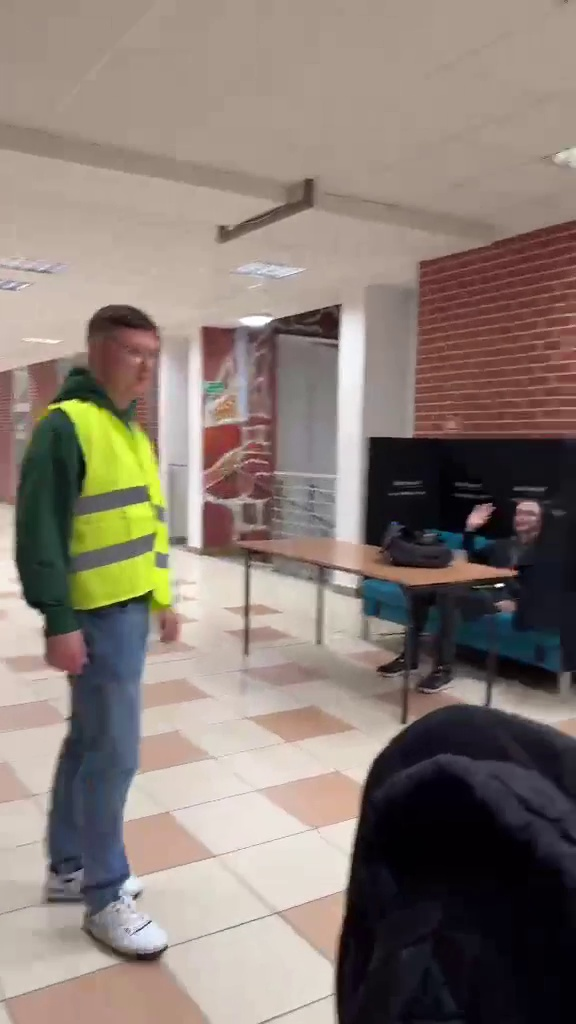no vest: (419, 493, 550, 678)
vest: (13, 303, 191, 964)
